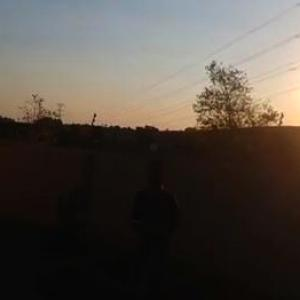follow: (122, 153, 184, 299)
